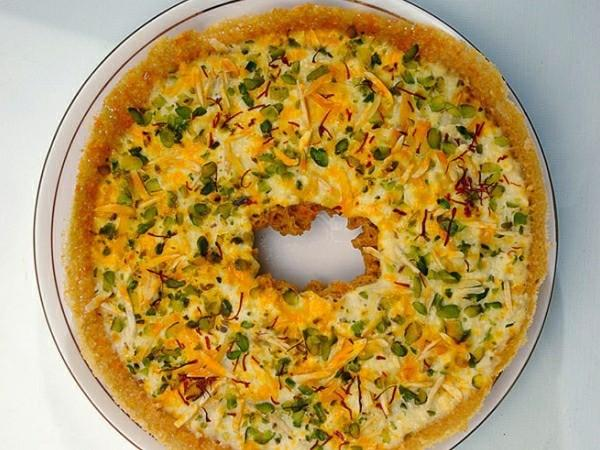Ghevar: (62, 0, 557, 450)
